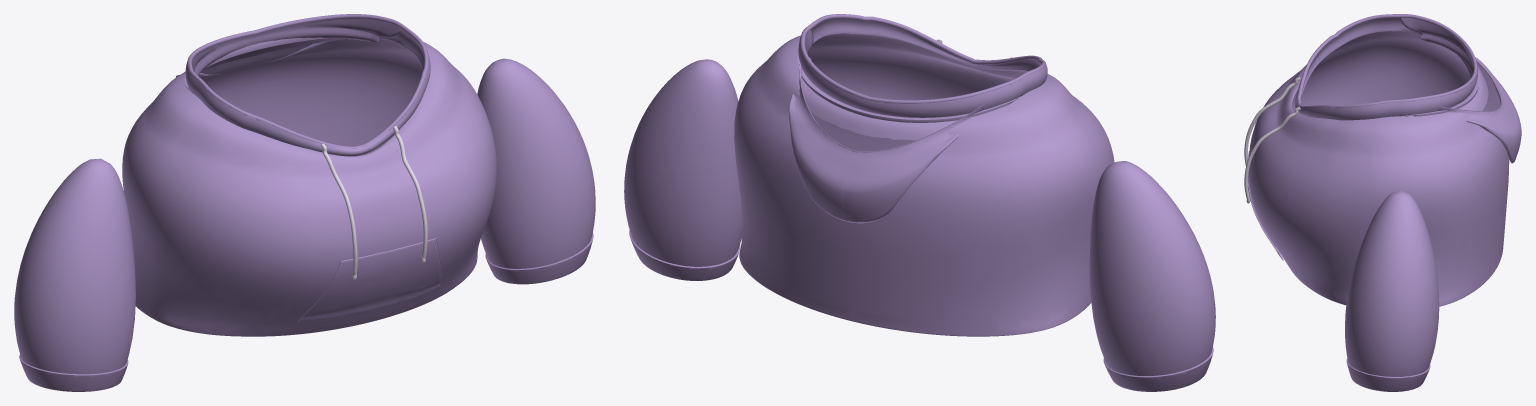
File: Feminine-top264.glb
3 renders of one model, left to right at view 1: azimuth 30°, elevation 25°; view 2: azimuth 150°, elevation 25°; view 3: azimuth 270°, elevation 25°, orthographic. The views are drawn at different scales.
Visible parts, largest first — view 1: Clothing / tailored203.001, Sleeve / full fabric wrap201 -1.001, Sleeve / full fabric wrap201 1.001, Hoodie / seated pouch202.001, Hoodie / attached opening204.001, Hoodie / rounded resting hood215.001, Hoodie / rolled opening204.001, Sleeve / shaped cuff202 -1.001, Sleeve / shaped cuff202 1.001, Hoodie / front seated cord205 -1.001, Hoodie / front seated cord205 1.001; view 2: Clothing / tailored203.001, Sleeve / full fabric wrap201 -1.001, Sleeve / full fabric wrap201 1.001, Hoodie / rounded resting hood215.001, Hoodie / attached opening204.001, Hoodie / rolled opening204.001, Sleeve / shaped cuff202 -1.001, Sleeve / shaped cuff202 1.001; view 3: Clothing / tailored203.001, Sleeve / full fabric wrap201 1.001, Hoodie / attached opening204.001, Hoodie / rounded resting hood215.001, Hoodie / rolled opening204.001, Sleeve / shaped cuff202 1.001, Hoodie / front seated cord205 1.001, Hoodie / front seated cord205 -1.001.
Part boxes in pixels (left/top/right/bottom): Clothing / tailored203.001: left=122, top=37, right=496, bottom=336; Sleeve / full fabric wrap201 -1.001: left=14, top=158, right=135, bottom=374; Sleeve / full fabric wrap201 1.001: left=477, top=58, right=595, bottom=268; Hoodie / seated pouch202.001: left=298, top=238, right=440, bottom=322; Hoodie / attached opening204.001: left=184, top=18, right=430, bottom=156; Hoodie / rounded resting hood215.001: left=176, top=18, right=401, bottom=77; Hoodie / rolled opening204.001: left=187, top=14, right=428, bottom=148; Sleeve / shaped cuff202 -1.001: left=19, top=355, right=128, bottom=391; Sleeve / shaped cuff202 1.001: left=485, top=233, right=593, bottom=284; Hoodie / front seated cord205 -1.001: left=321, top=143, right=357, bottom=275; Hoodie / front seated cord205 1.001: left=393, top=126, right=427, bottom=258; Clothing / tailored203.001: left=734, top=32, right=1114, bottom=336; Sleeve / full fabric wrap201 -1.001: left=1089, top=161, right=1215, bottom=375; Sleeve / full fabric wrap201 1.001: left=624, top=59, right=742, bottom=266; Hoodie / rounded resting hood215.001: left=788, top=29, right=984, bottom=223; Hoodie / attached opening204.001: left=797, top=18, right=1047, bottom=122; Hoodie / rolled opening204.001: left=800, top=14, right=1045, bottom=103; Sleeve / shaped cuff202 -1.001: left=1103, top=347, right=1213, bottom=391; Sleeve / shaped cuff202 1.001: left=629, top=230, right=740, bottom=280; Clothing / tailored203.001: left=1248, top=30, right=1509, bottom=306; Sleeve / full fabric wrap201 1.001: left=1345, top=190, right=1439, bottom=376; Hoodie / attached opening204.001: left=1295, top=17, right=1479, bottom=120; Hoodie / rounded resting hood215.001: left=1399, top=17, right=1521, bottom=163; Hoodie / rolled opening204.001: left=1297, top=14, right=1477, bottom=108; Sleeve / shaped cuff202 1.001: left=1346, top=358, right=1430, bottom=391; Hoodie / front seated cord205 1.001: left=1244, top=106, right=1300, bottom=199; Hoodie / front seated cord205 -1.001: left=1244, top=76, right=1300, bottom=165.
Bounding box in the file's own units: 1.06 × 0.4801 × 0.5252.
